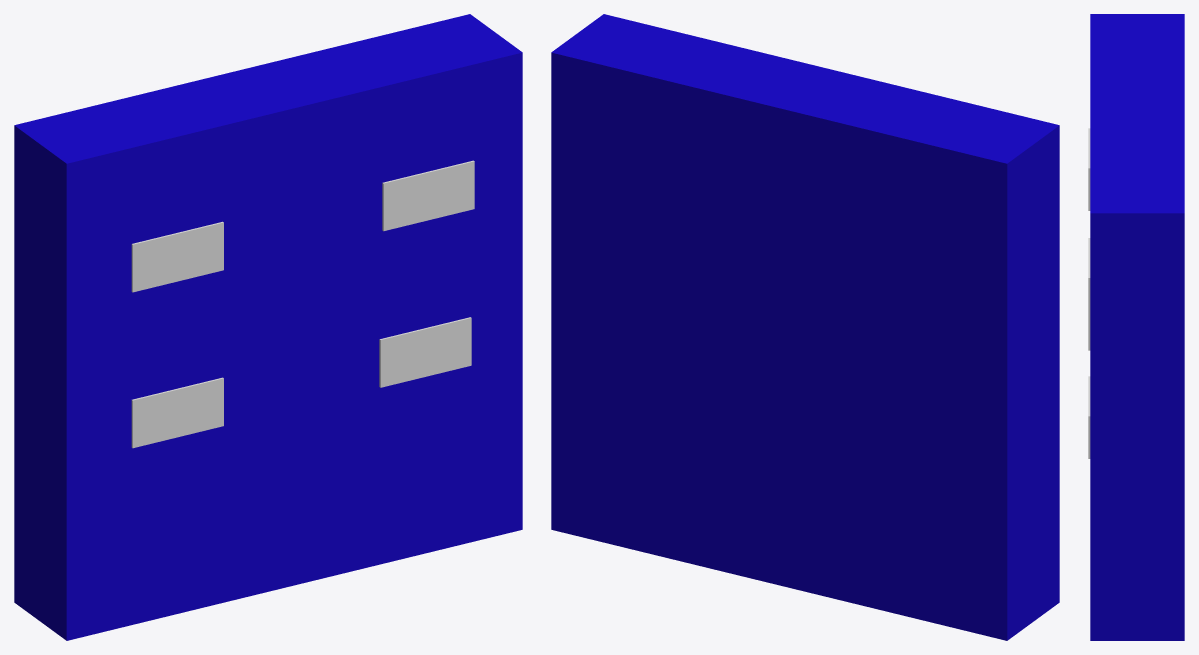
File: lowpolybuilding2.fbx
3 renders of one model, left to right at view 1: azimuth 30°, elevation 25°; view 2: azimuth 150°, elevation 25°; view 3: azimuth 270°, elevation 25°, orthographic. The views are drawn at different scales.
Parts seen in each view (by area): view 1: Cube, Cube.002, Cube.003, Cube.004, Cube.001; view 2: Cube; view 3: Cube, Cube.001, Cube.003, Cube.004.
Part boxes in pixels (left/top/right/bottom): Cube: left=14, top=14, right=522, bottom=640; Cube.002: left=131, top=377, right=223, bottom=448; Cube.003: left=131, top=221, right=223, bottom=292; Cube.004: left=382, top=160, right=474, bottom=231; Cube.001: left=379, top=317, right=471, bottom=387; Cube: left=551, top=14, right=1059, bottom=640; Cube: left=1090, top=14, right=1184, bottom=640; Cube.001: left=1088, top=376, right=1090, bottom=458; Cube.003: left=1088, top=128, right=1090, bottom=210; Cube.004: left=1088, top=238, right=1090, bottom=320.
Size of the model in its own units: 1000 by 1000 by 204.
